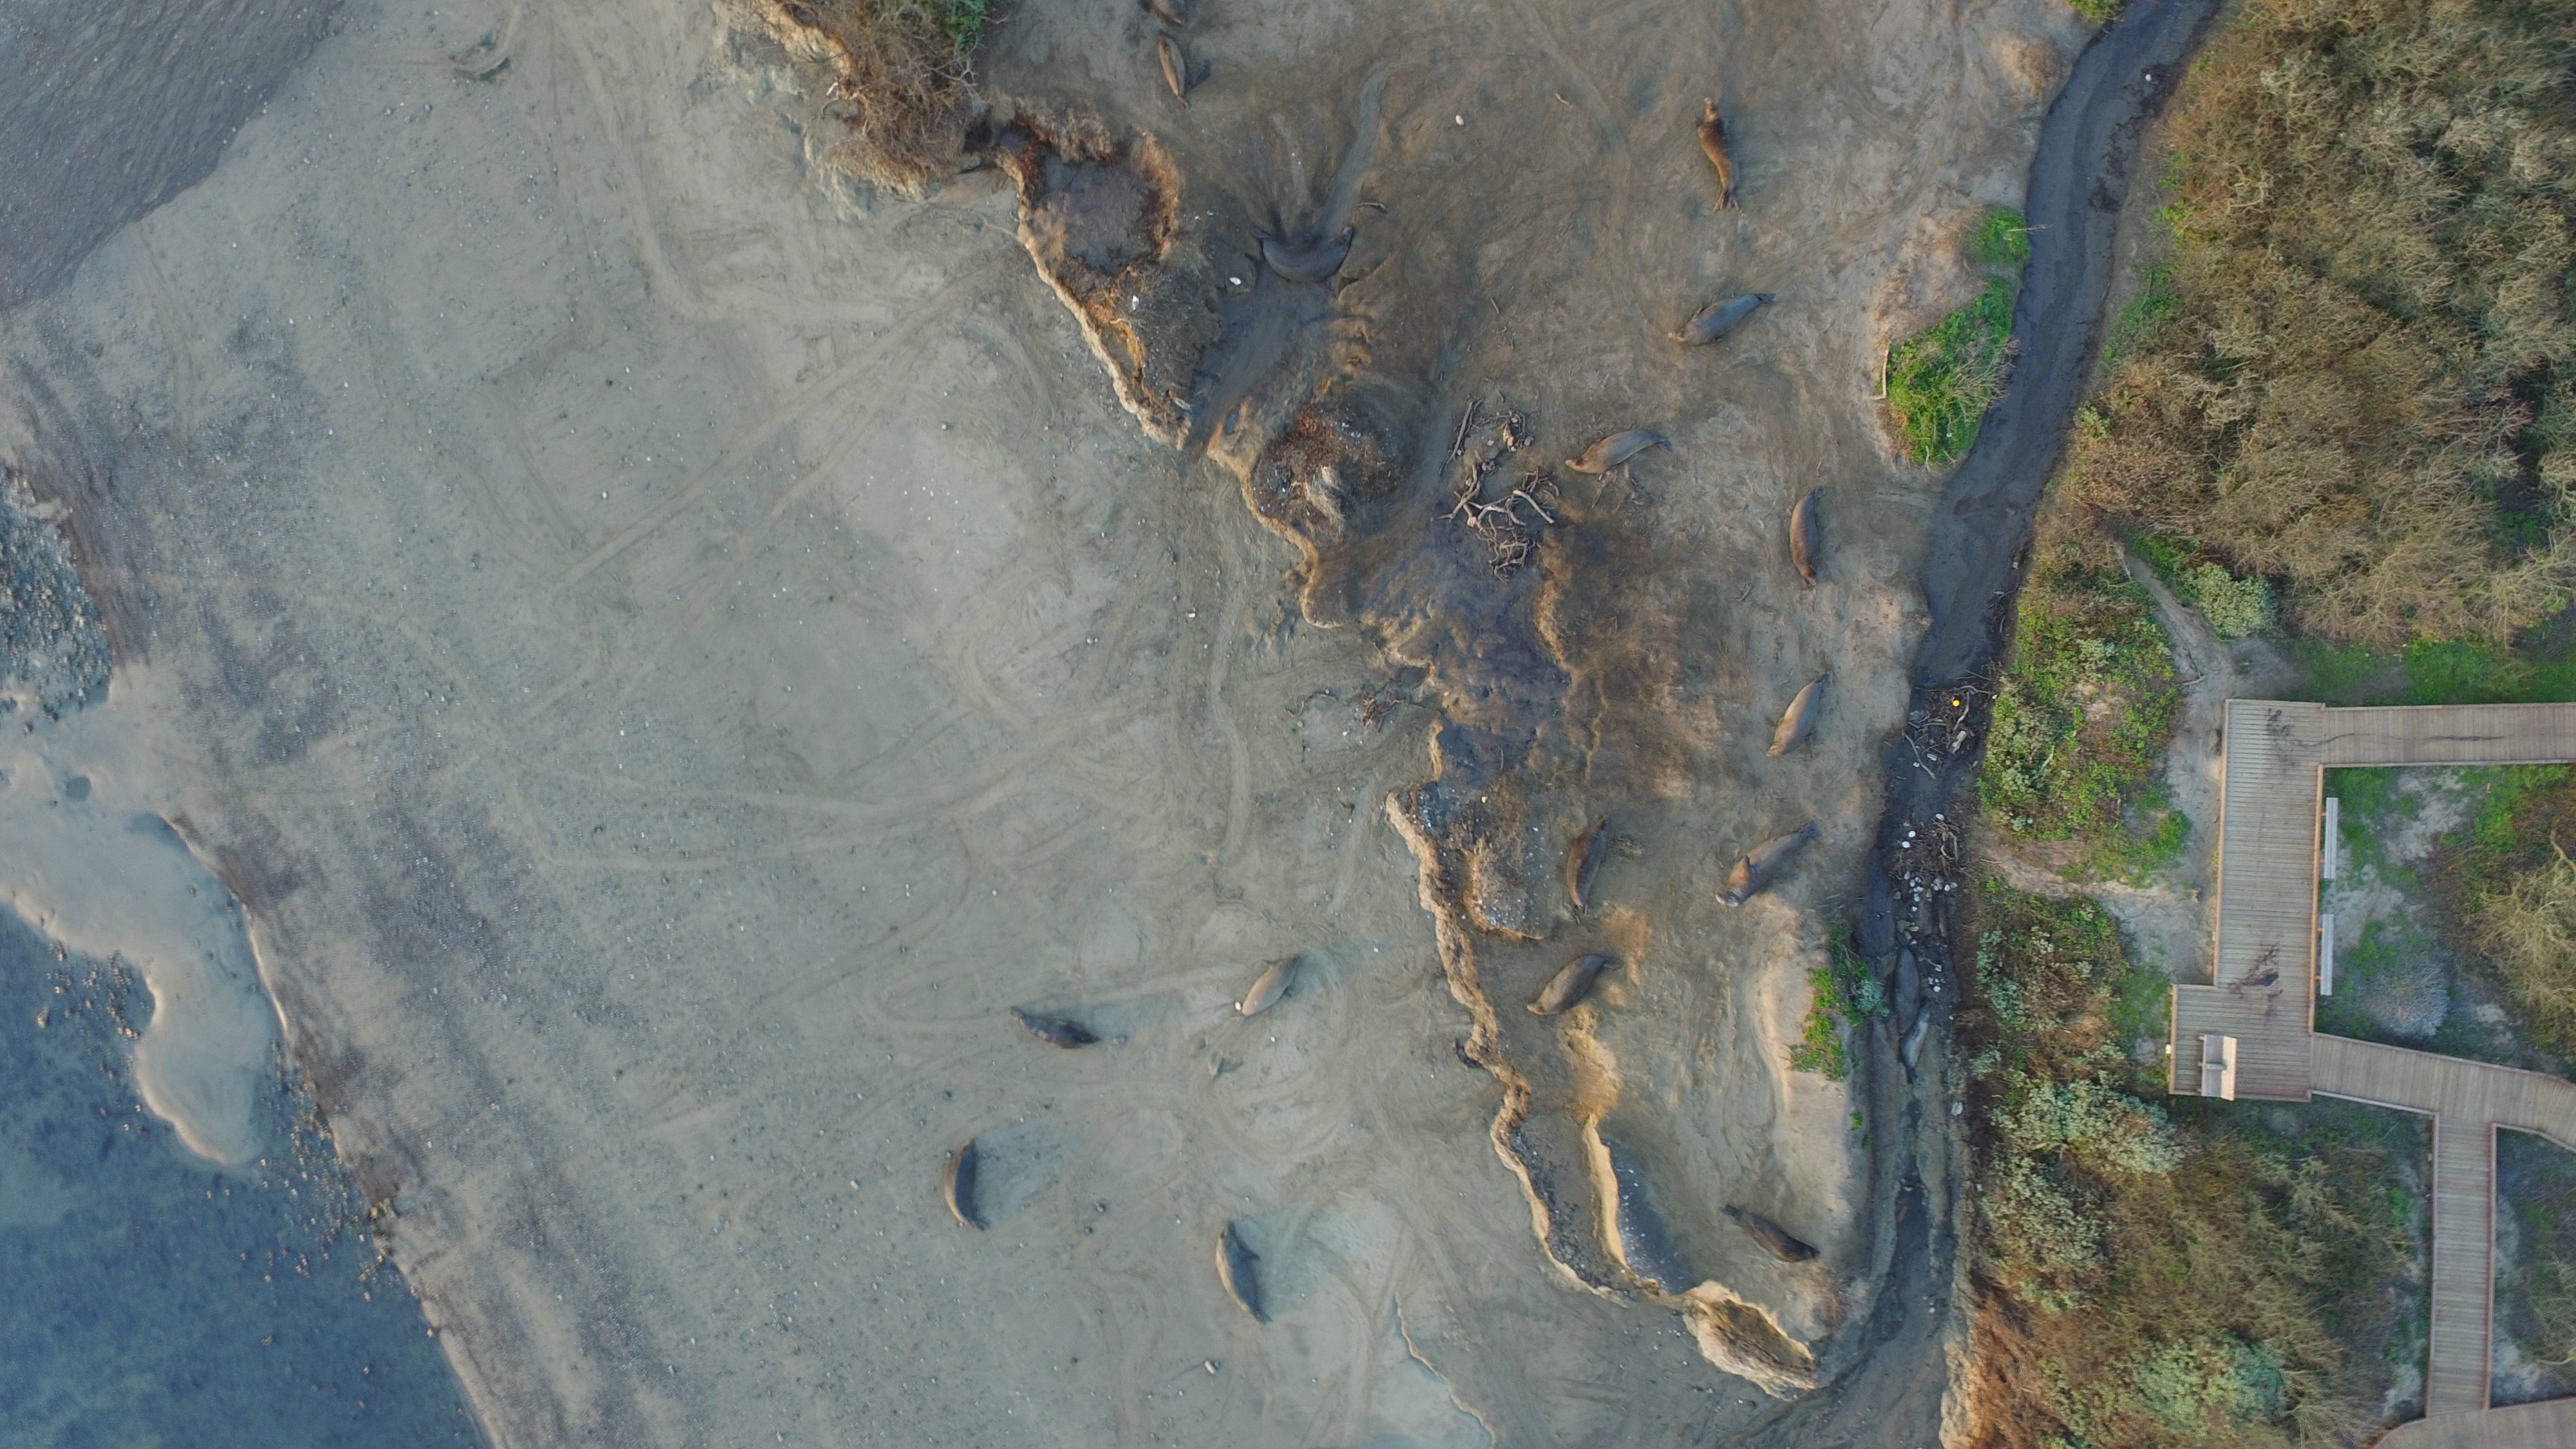Adult Female or Young Male: (1660, 288, 1778, 352), (1711, 1201, 1824, 1265), (1207, 1221, 1274, 1327), (1522, 950, 1619, 1023), (1762, 674, 1835, 764), (1003, 1001, 1109, 1054), (1230, 952, 1311, 1021), (934, 1136, 991, 1235), (1560, 814, 1610, 916), (1555, 428, 1665, 474), (1778, 488, 1828, 589), (1148, 30, 1194, 110), (1888, 947, 1925, 1037), (1898, 1001, 1941, 1072)
Adult Male: (1711, 824, 1815, 911), (1686, 96, 1750, 216), (1251, 223, 1357, 287)
Pup: (1185, 57, 1217, 97)
